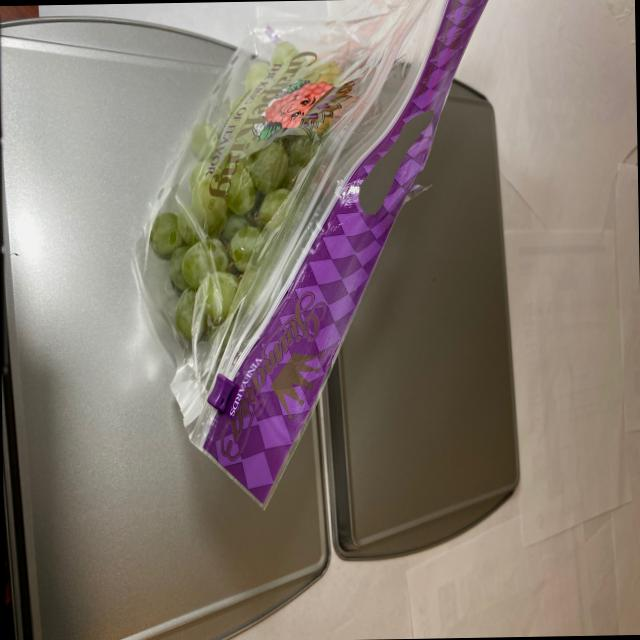grapes: (143, 42, 344, 363)
